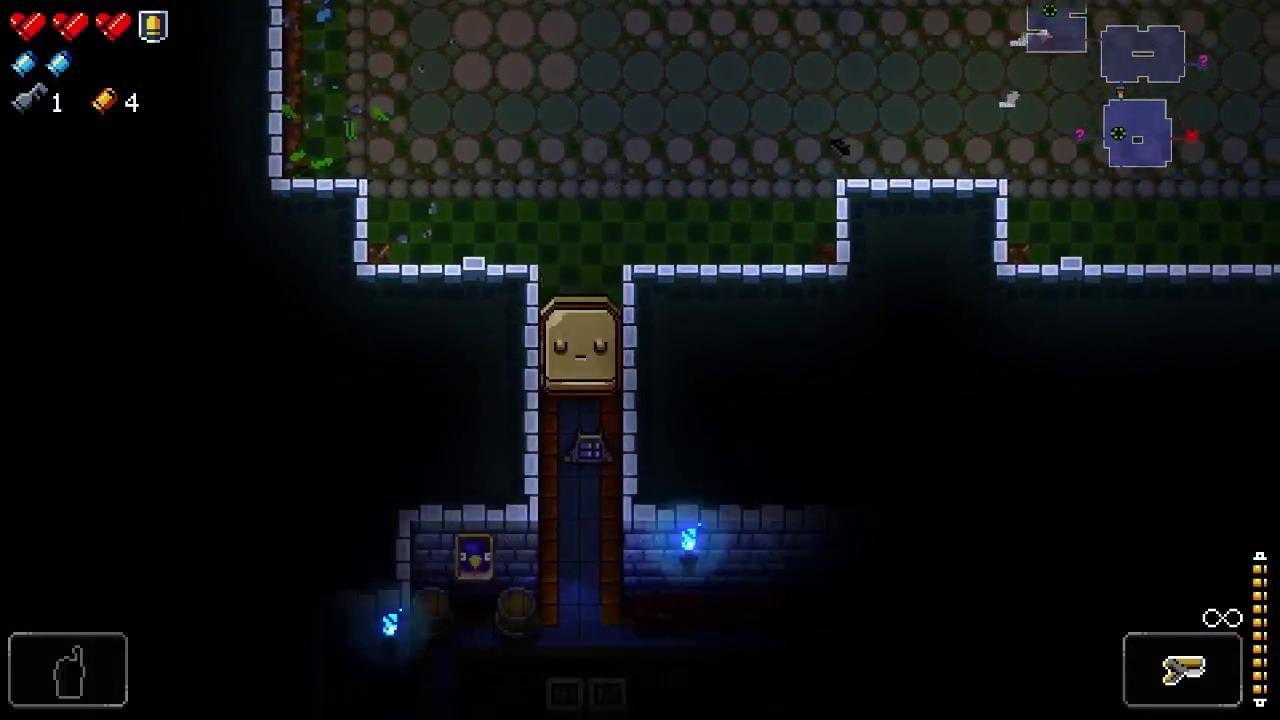locked_door: (539, 296, 622, 397)
player: (569, 428, 617, 466)
